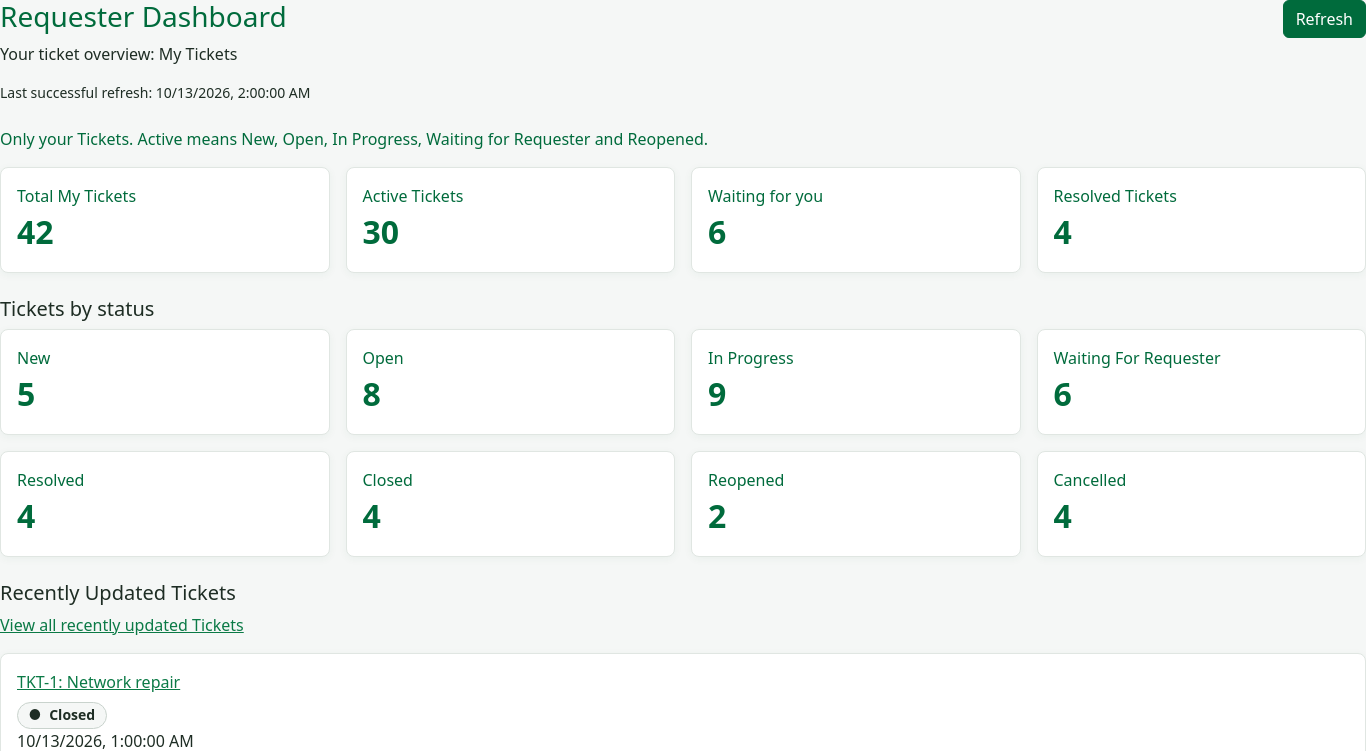
Test case: failed refresh retains truthful prior data and timestamp; retry restores current results
Check: the link "Total My Tickets 42" is shown, box [0, 167, 330, 273]
Click the button "Refresh".
click(1324, 19)  # box [1283, 0, 1365, 38]
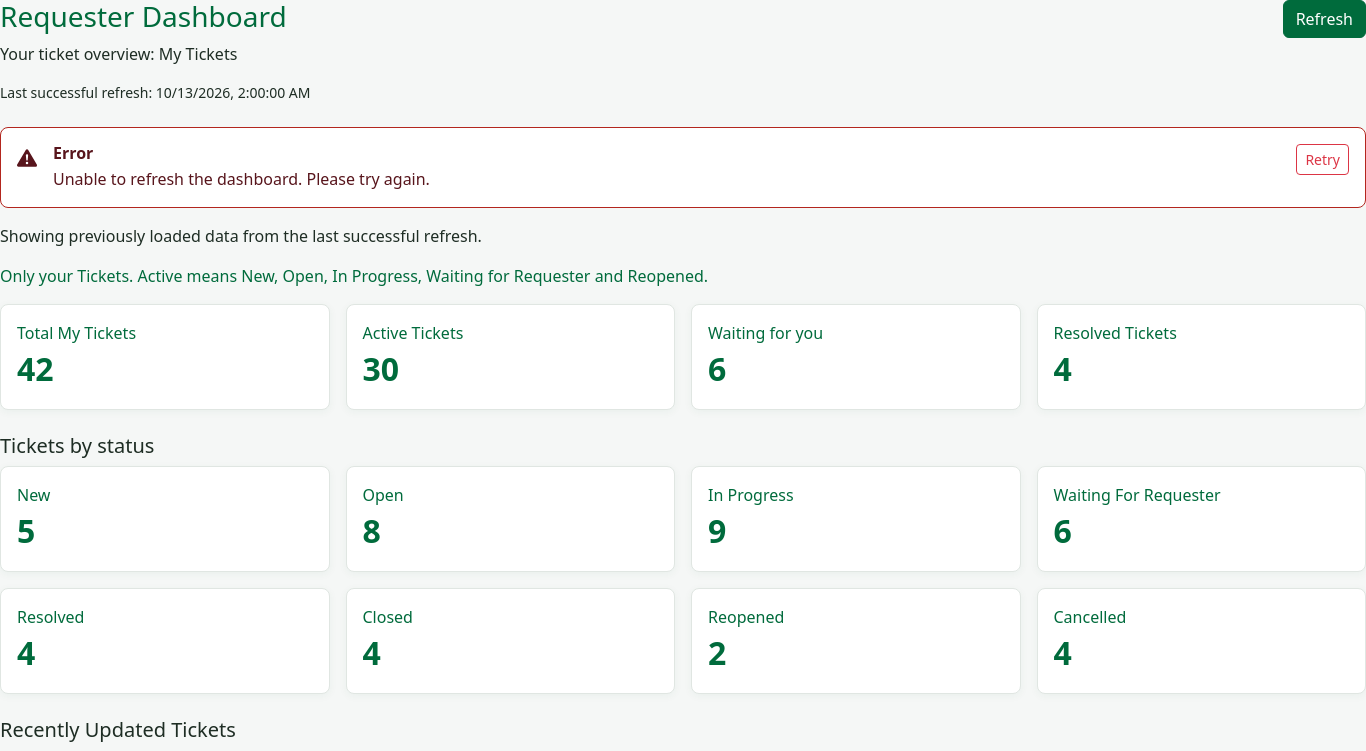
Check: the link "Total My Tickets 42" is shown, box [0, 304, 330, 410]
Check: the text "Showing previously loaded data from the last successful refresh." is shown, box [0, 225, 482, 247]
Click the button with aria-label "Retry: Error".
click(1323, 159)  # box [1296, 144, 1349, 175]
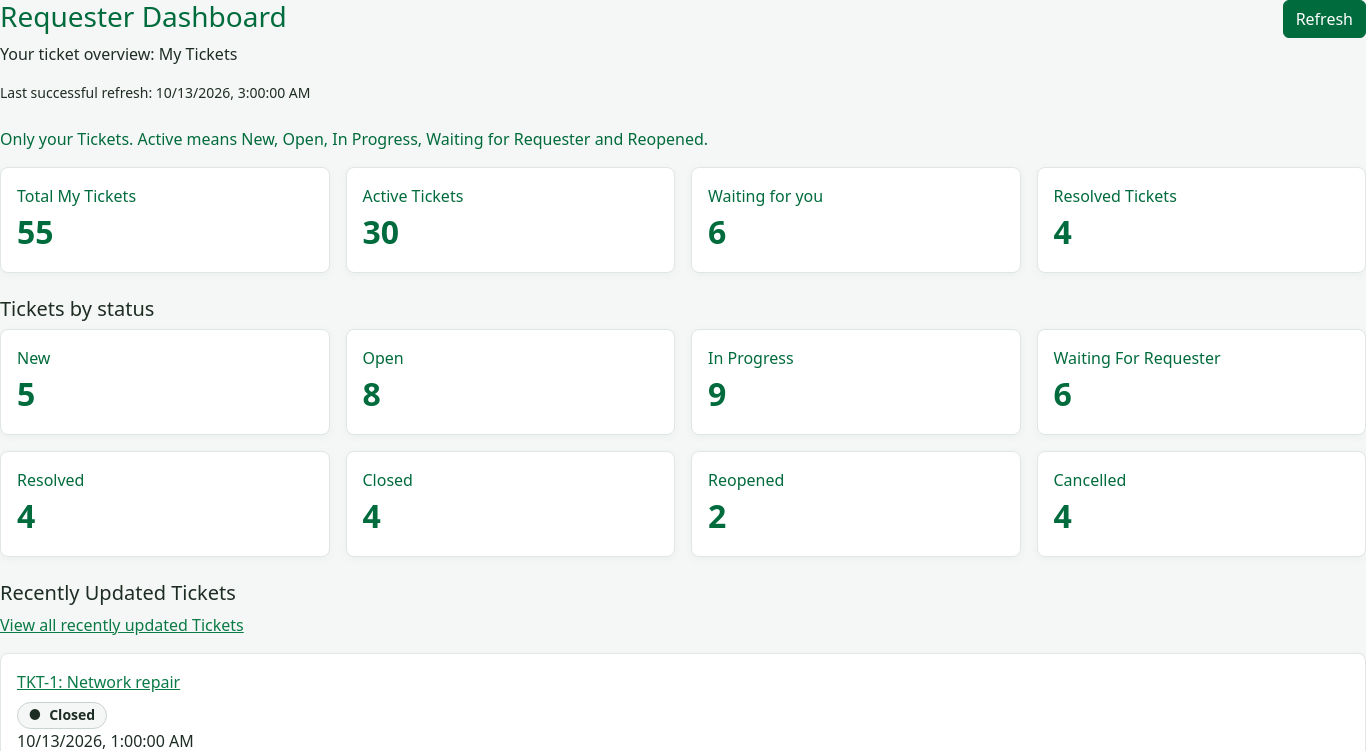
Check: the link "Total My Tickets 55" is shown, box [0, 167, 330, 273]
